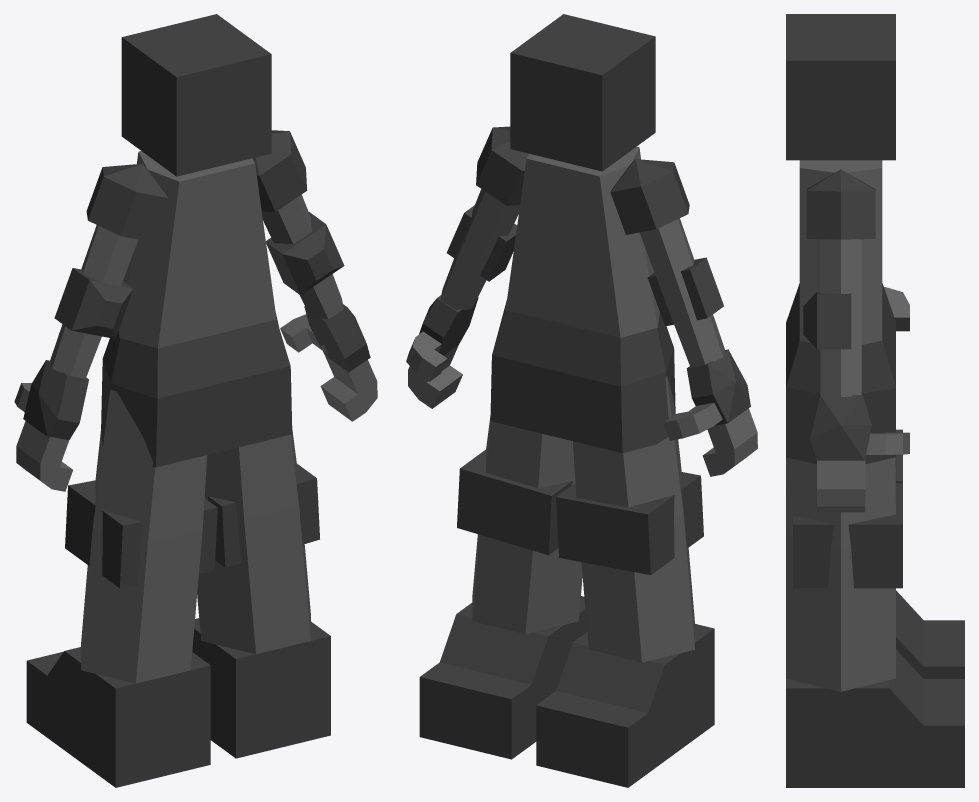
File: BottomHeavyBase.fbx
3 views of the same model, side by side, from view 1: azimuth 30°, elevation 25°; view 2: azimuth 150°, elevation 25°; view 3: azimuth 270°, elevation 25° (orthographic). The views are drawn at different scales.
Parts seen in each view (by area): view 1: Body, Head, Waist, Shoes_1, LowerLeg_1, Shoes, LowerLeg, UpperLeg_1, UpperLeg, Pad_1, Shoulder_1, Pads_1 (+12 smaller); view 2: Waist, Body, Shoes_1, Head, Shoes, LowerLeg_1, Pad_1, LowerLeg, Pad, UpperLeg_1, UpperLeg, Shoulder_1 (+13 smaller); view 3: Shoes, Head, LowerLeg, Waist, Pad, Body, UpperLeg, Shoulder, Shoes_1, Hand, Arm, Fingers (+4 smaller).
Part boxes in pixels (x1,y1,x2,y2): Body: [118, 151, 276, 348]; Head: [121, 14, 271, 176]; Waist: [101, 313, 292, 467]; Shoes_1: [26, 647, 210, 787]; LowerLeg_1: [81, 527, 202, 683]; Shoes: [192, 618, 330, 758]; LowerLeg: [197, 505, 310, 654]; UpperLeg_1: [93, 389, 207, 543]; UpperLeg: [204, 430, 298, 520]; Pad_1: [65, 480, 217, 588]; Shoulder_1: [86, 163, 168, 241]; Pads_1: [54, 268, 133, 338]; Waist: [490, 300, 675, 453]; Body: [505, 146, 659, 337]; Shoes_1: [536, 624, 714, 787]; Head: [510, 14, 655, 171]; Shoes: [419, 596, 587, 759]; LowerLeg_1: [581, 512, 694, 662]; Pad_1: [556, 472, 703, 575]; LowerLeg: [472, 534, 582, 634]; Pad: [457, 449, 572, 555]; UpperLeg_1: [573, 375, 683, 516]; UpperLeg: [486, 415, 575, 488]; Shoulder_1: [610, 159, 689, 234]; Shoes: [786, 649, 964, 787]; Head: [786, 14, 895, 160]; LowerLeg: [786, 535, 895, 691]; Waist: [786, 283, 895, 464]; Pad: [793, 483, 902, 588]; Body: [799, 160, 882, 344]; UpperLeg: [786, 457, 895, 548]; Shoulder: [806, 169, 875, 239]; Shoes_1: [896, 590, 964, 678]; Hand: [810, 394, 871, 460]; Arm: [820, 239, 861, 321]; Fingers: [817, 459, 865, 512].
Size of the model in its own units: 178 by 350 by 81.25.
1 material, 1 textured.
